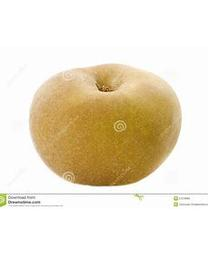apple: (28, 62, 182, 185)
